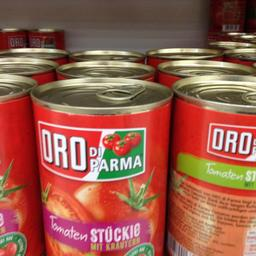tomato_sauce: (26, 76, 172, 254), (167, 74, 255, 254)
